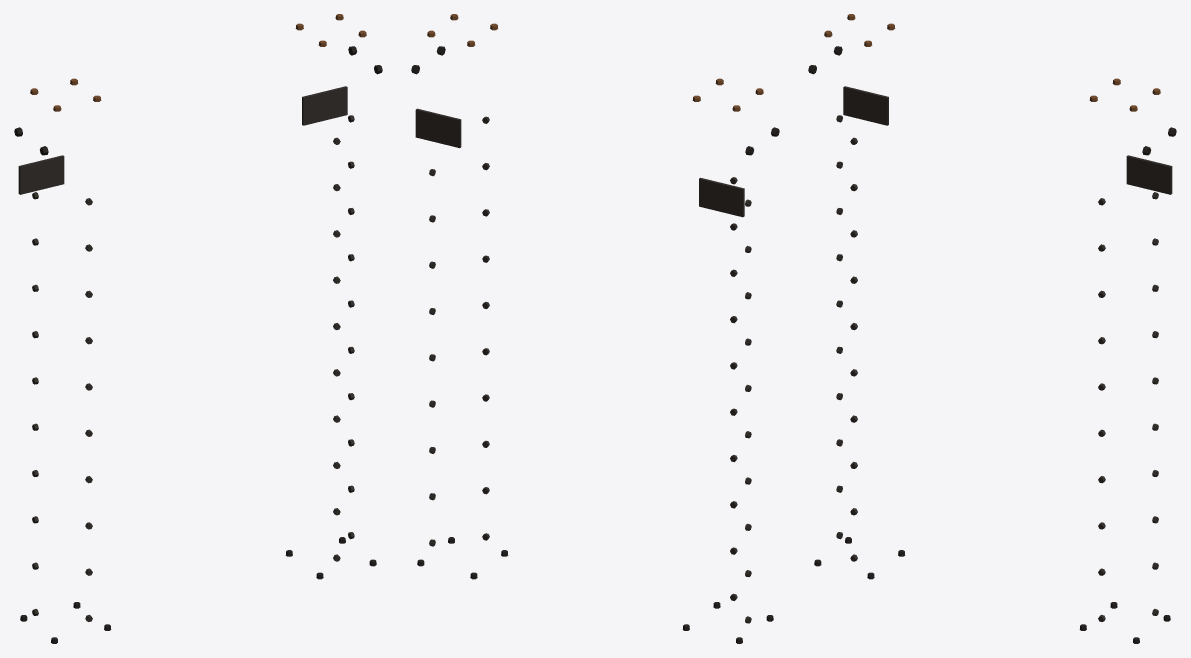
File: trebuchet_detail1.glb
3 views of the same model, side by side, from view 1: azimuth 30°, elevation 25°; view 2: azimuth 150°, elevation 25°; view 3: azimuth 330°, elevation 25° (orthographic).
Parts seen in each view (by area): view 1: trebuchet_detail1.001; view 2: trebuchet_detail1.001; view 3: trebuchet_detail1.001.
Part boxes in pixels (x1,y1,x2,y2): trebuchet_detail1.001: (14,14,382,643); trebuchet_detail1.001: (411,14,779,643); trebuchet_detail1.001: (808,14,1176,643).
Bounding box in the file's own units: 7.66 × 11.48 × 1.34.
